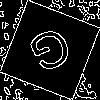G: (25, 25, 80, 83)
